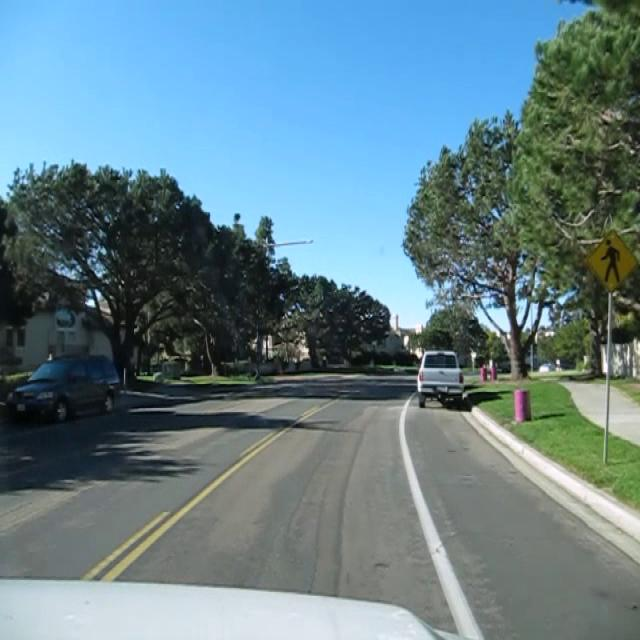pedestrianCrossing: (585, 227, 638, 294)
